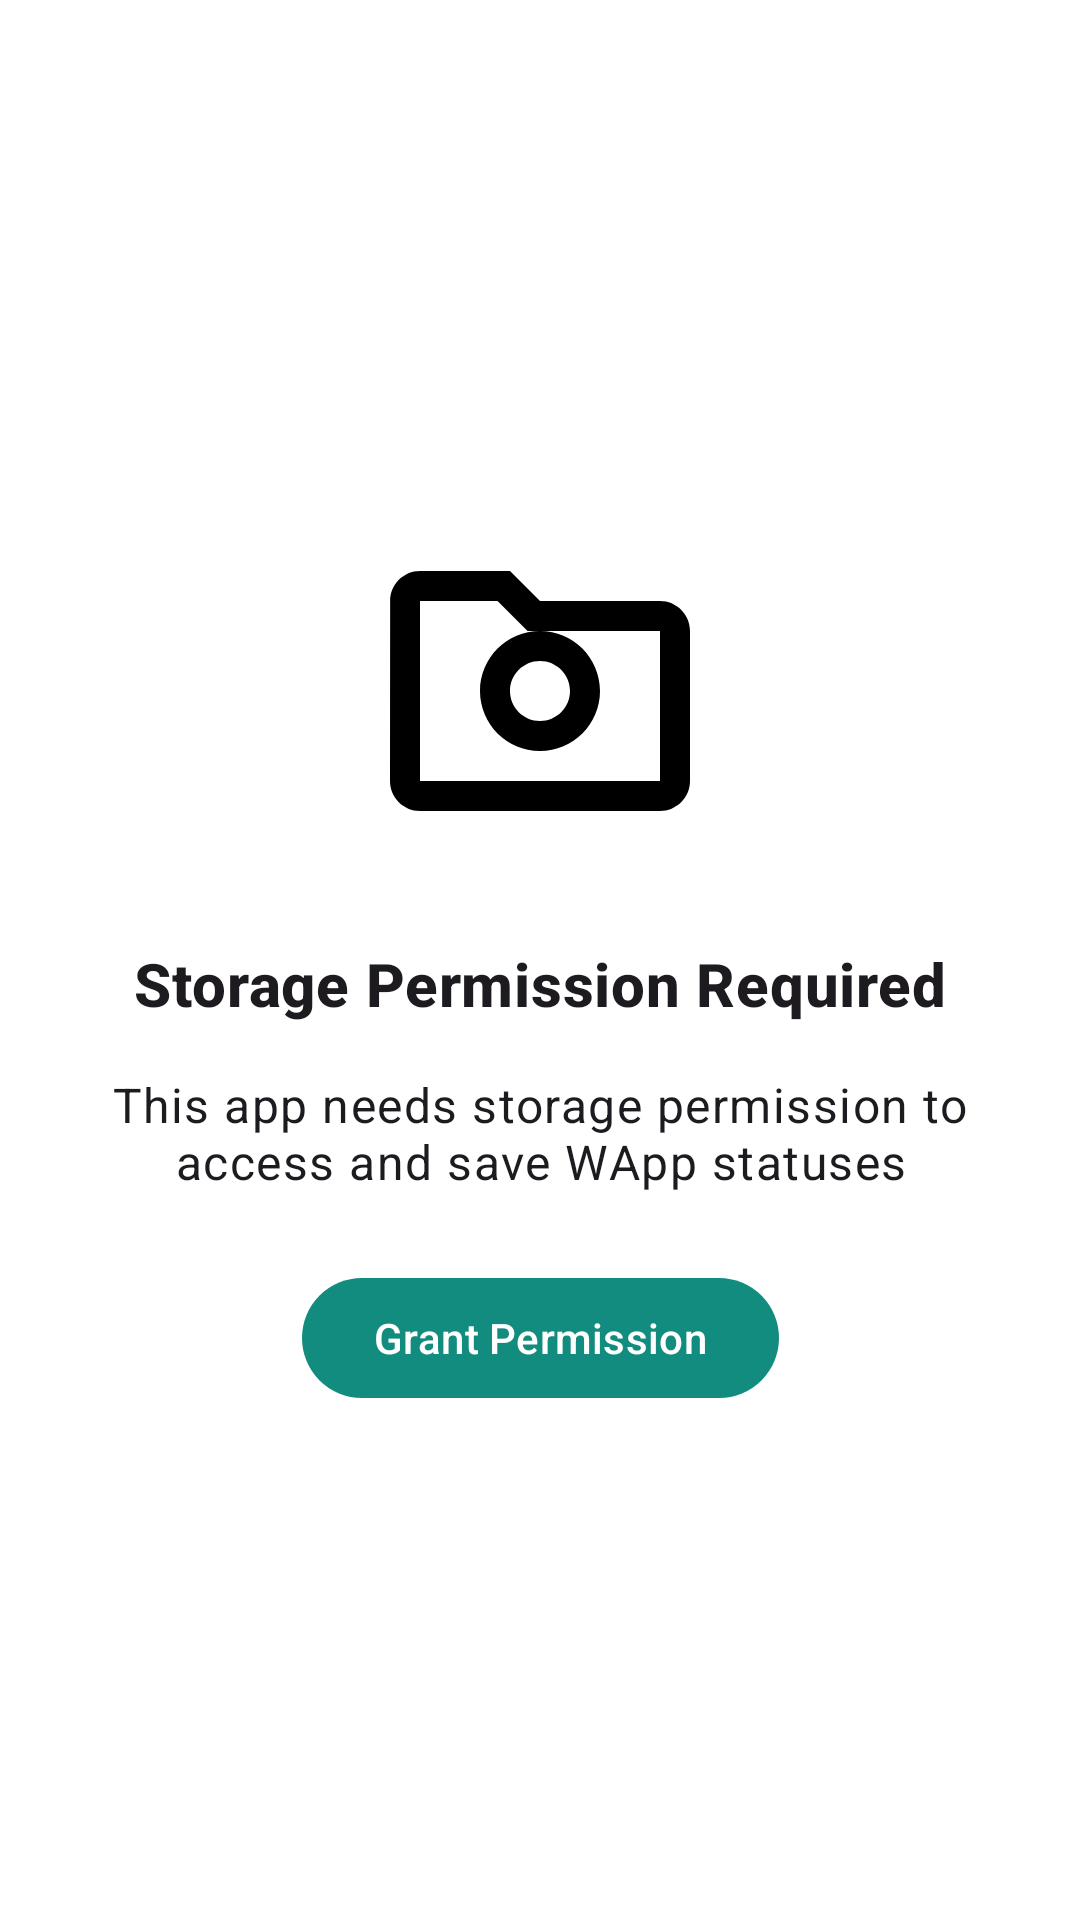

Named icons in this screenshot (1080 x 1920) and their bounding boxes, (x1, y1, x2, y2):
folder permission: (390, 571, 690, 811)
